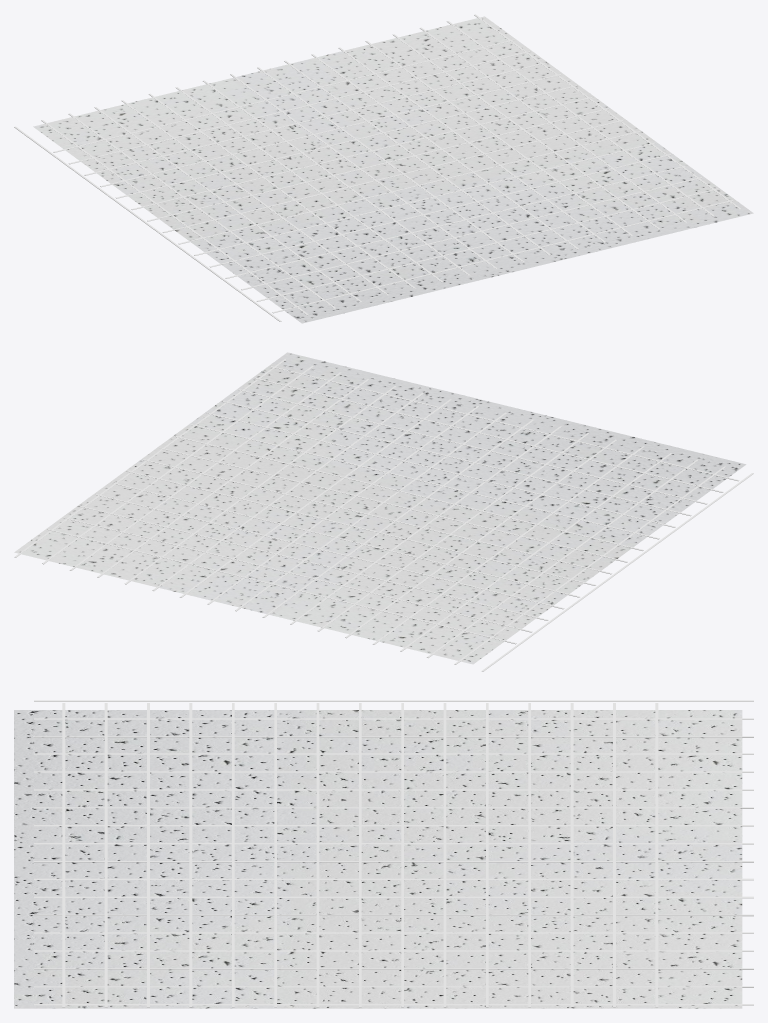
File: Потолок.fbx
The picture shows the model from 3 angles, top to bottom: view 1: azimuth 30°, elevation 25°; view 2: azimuth 150°, elevation 25°; view 3: azimuth 270°, elevation 25°; orthographic projection. The views are drawn at different scales.
Visible parts, largest first — view 1: Потолок, Решетка_Потолочная; view 2: Потолок, Решетка_Потолочная; view 3: Потолок, Решетка_Потолочная.
Boxes of the visible parts, x1,y1,x2,y2 form: Потолок: [33, 16, 753, 323]; Решетка_Потолочная: [14, 14, 741, 321]; Потолок: [14, 352, 746, 664]; Решетка_Потолочная: [14, 359, 753, 671]; Потолок: [14, 710, 742, 1008]; Решетка_Потолочная: [34, 700, 753, 1007].
Bounding box in the file's own units: 860 × 0.6918 × 874.
Materials: 2 (1 with a texture image).
